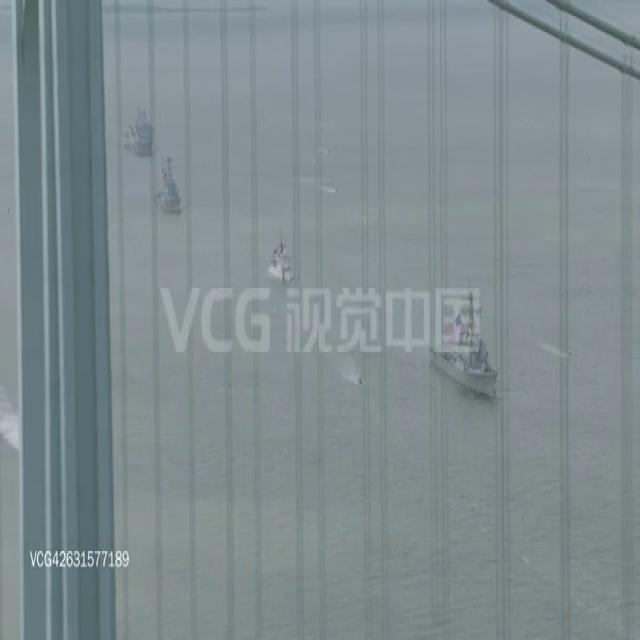fishing boat: (428, 288, 498, 397), (149, 153, 183, 216), (267, 222, 296, 285), (124, 104, 156, 158)
houseboat: (325, 144, 336, 160), (355, 370, 364, 387), (567, 347, 574, 364), (332, 183, 339, 196)
